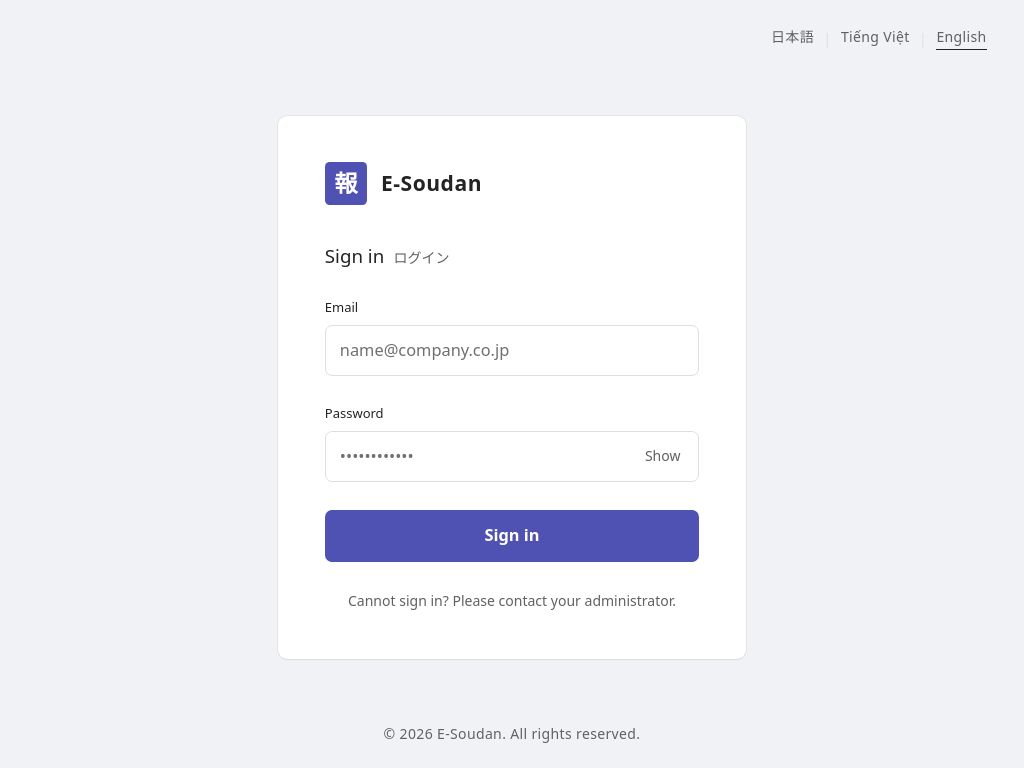
Test case: LoginView › default › should_toggleBetweenShowAndHide_when_passwordToggleClicked
Click the button with class "toggle".
click(663, 456)  # box [640,442,685,470]
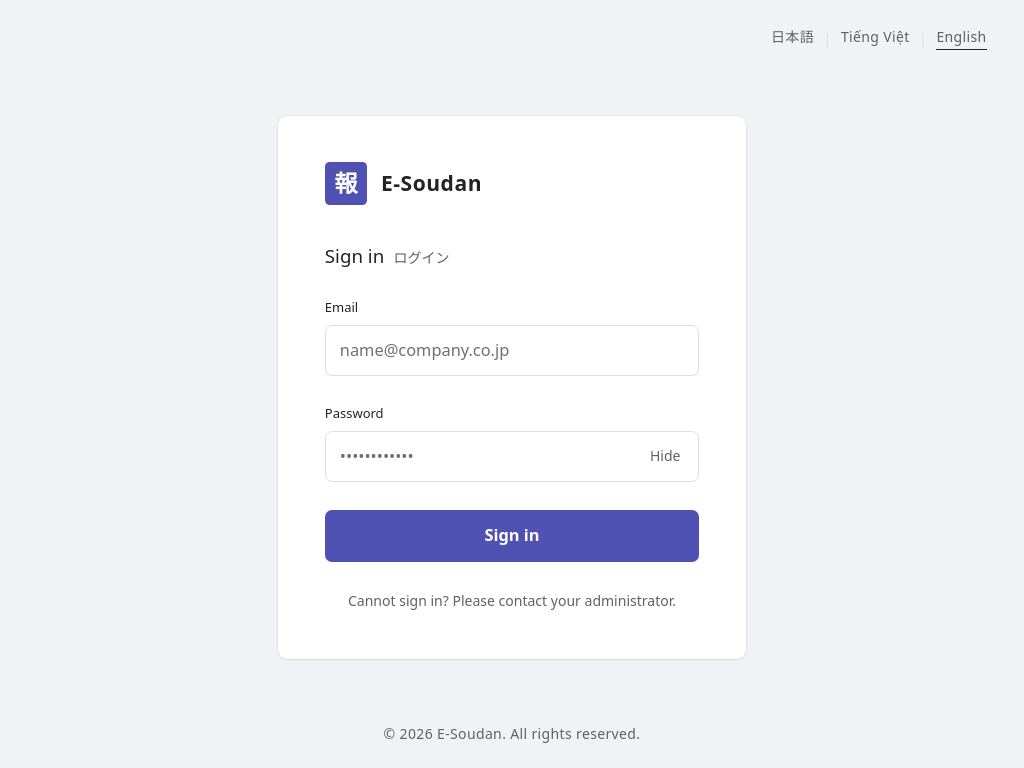
Now the button with class "toggle" reads "Hide", box [645,442,685,470]
